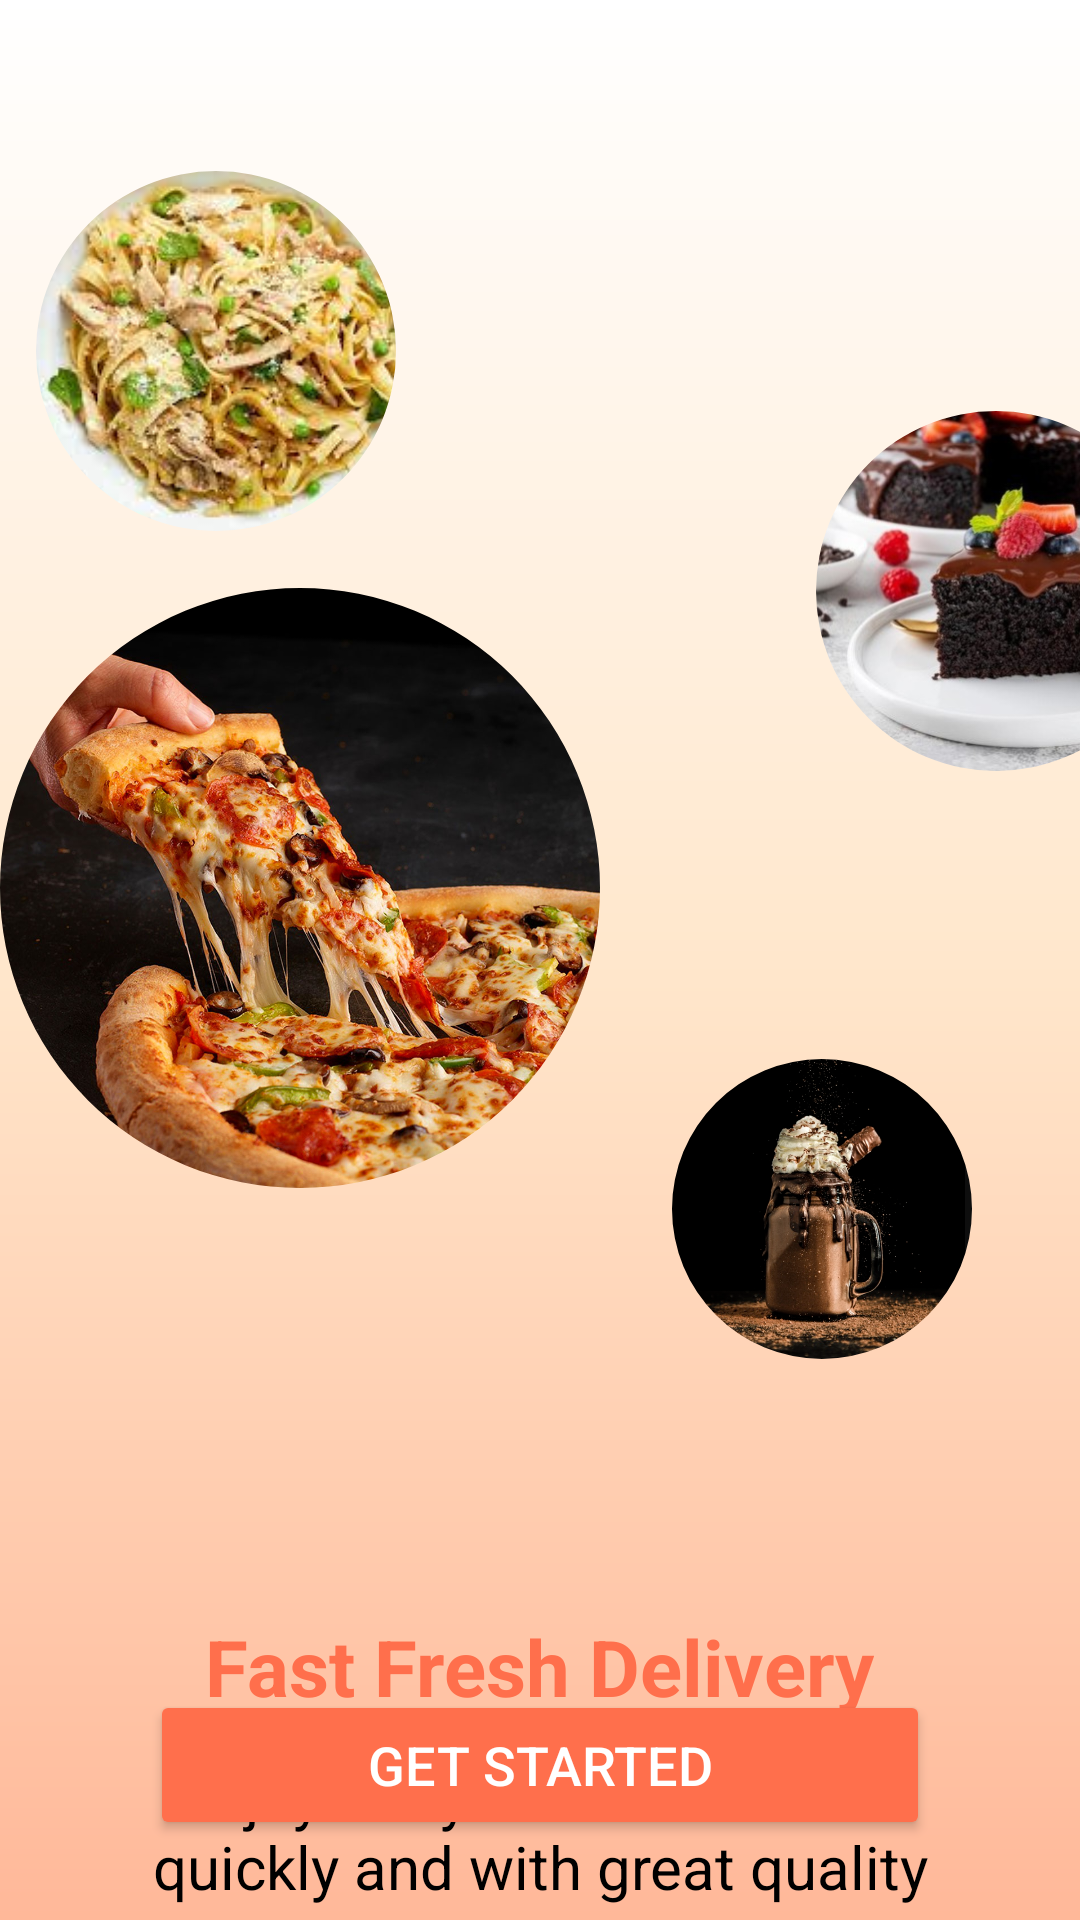

Icons on this 1080×1920 Android screen, each with the point to tap as point (x, y):
pasta: point (216, 345)
